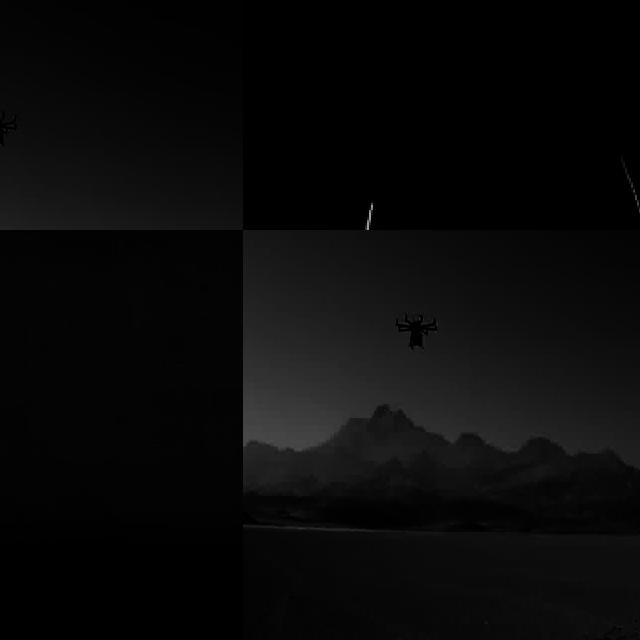0: (421, 189, 449, 221)
drone: (394, 308, 443, 359), (0, 103, 19, 155)
